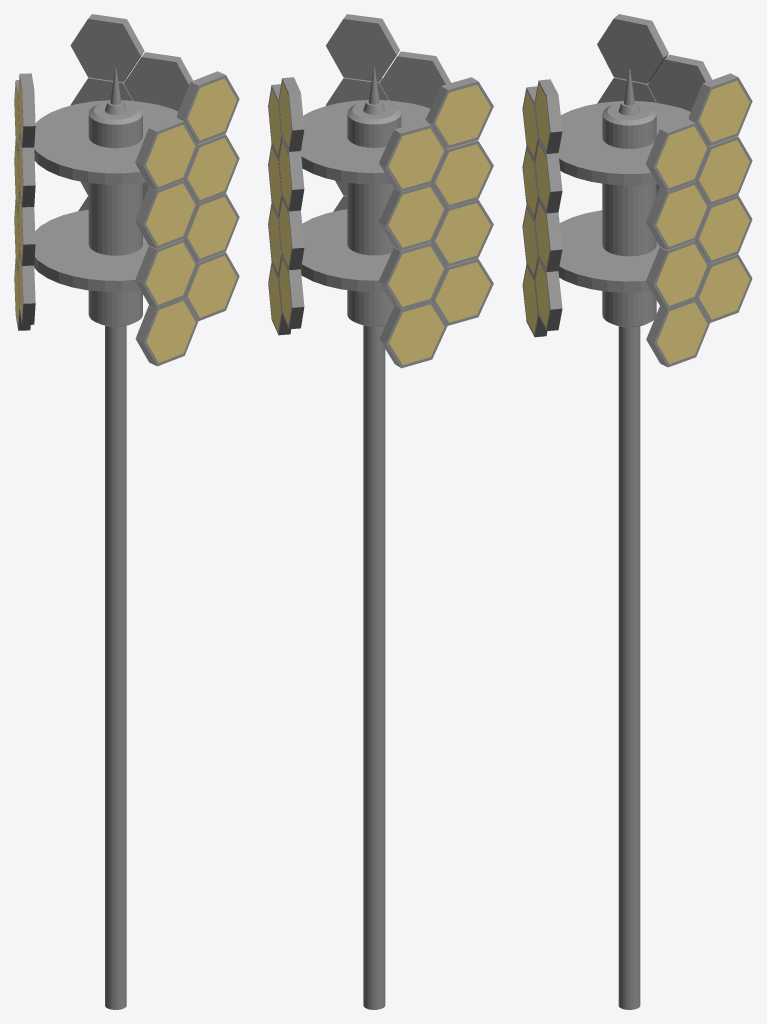
Rendered from Vertical_Array.fbx.
The picture shows the model from 3 angles, left to right: view 1: azimuth 30°, elevation 25°; view 2: azimuth 150°, elevation 25°; view 3: azimuth 270°, elevation 25°; orthographic projection.
Visible parts, largest first — view 1: Box:029_Box:032.002; view 2: Box:029_Box:032.002; view 3: Box:029_Box:032.002.
Boxes of the visible parts, left/top/right/bottom form: Box:029_Box:032.002: left=14, top=14, right=239, bottom=1009; Box:029_Box:032.002: left=268, top=14, right=493, bottom=1009; Box:029_Box:032.002: left=522, top=14, right=752, bottom=1009.
Bounding box in the file's own units: 85.26 × 384 × 84.99.
